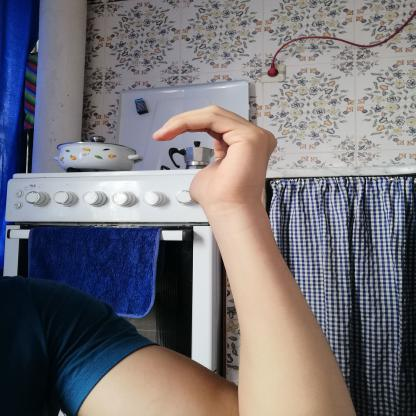HAA: (138, 94, 292, 220)
